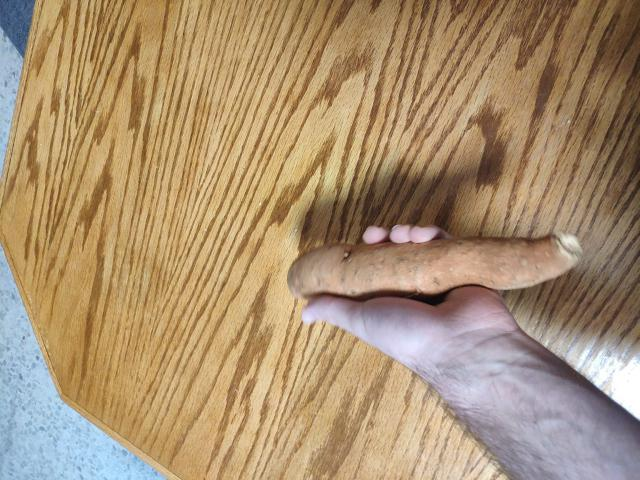sweet_potato: (298, 235, 584, 322)
